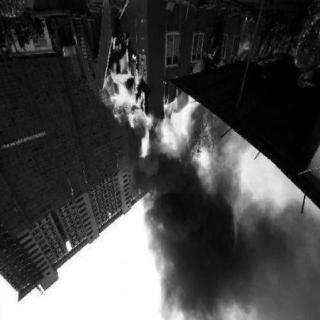Fire: (102, 39, 150, 163)
